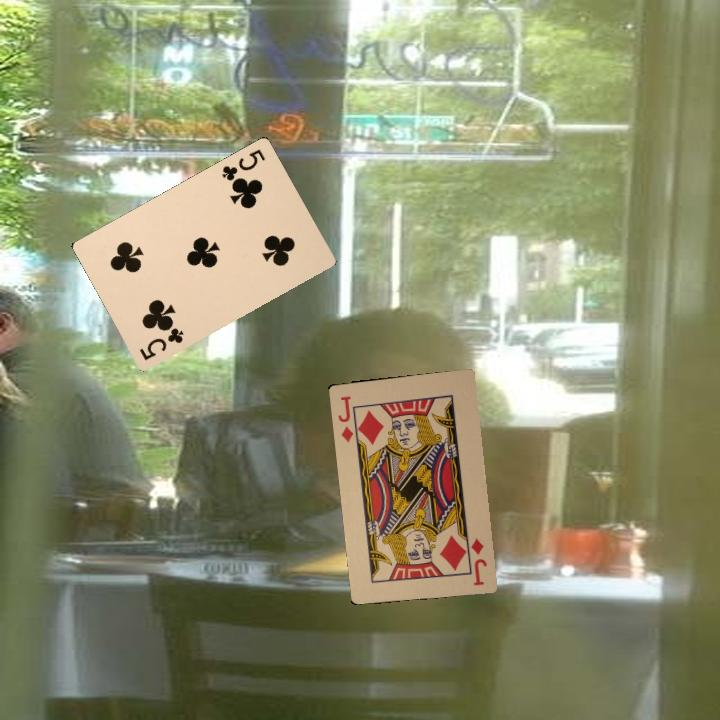5c: (218, 145, 268, 186), (136, 324, 186, 363)
Jd: (462, 532, 489, 588), (334, 392, 356, 443)
